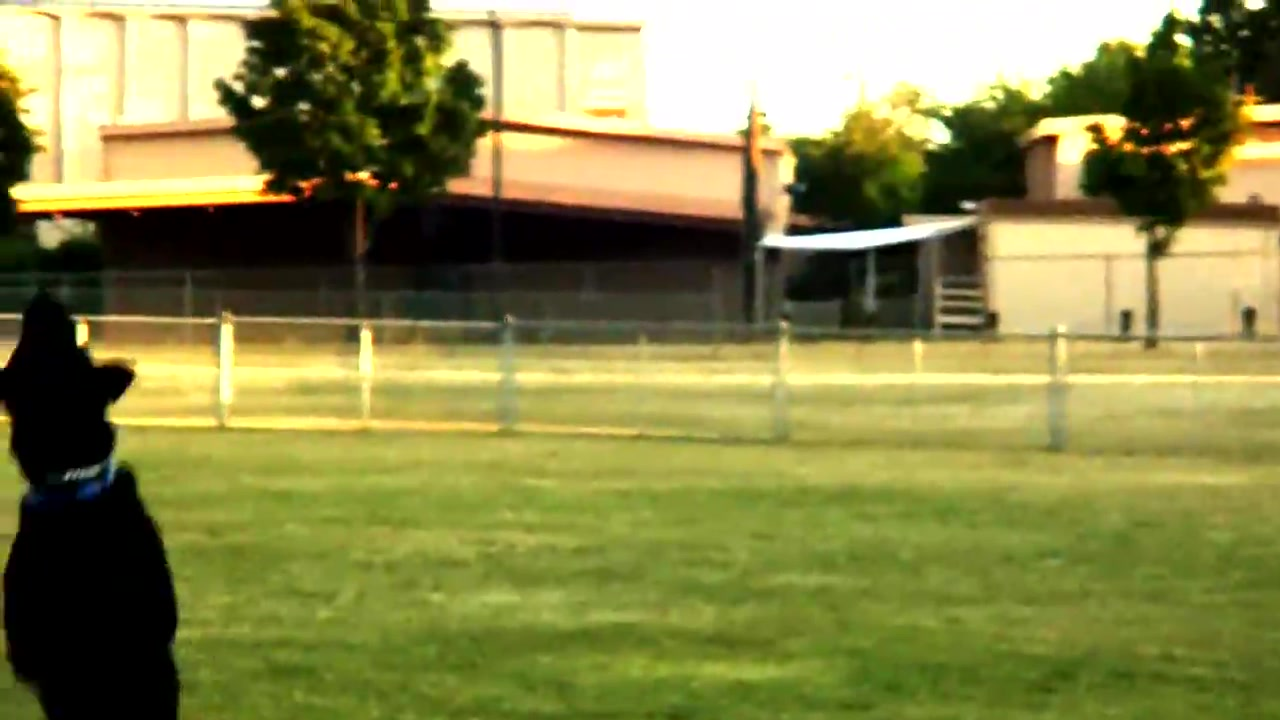dog: (1, 281, 187, 720)
